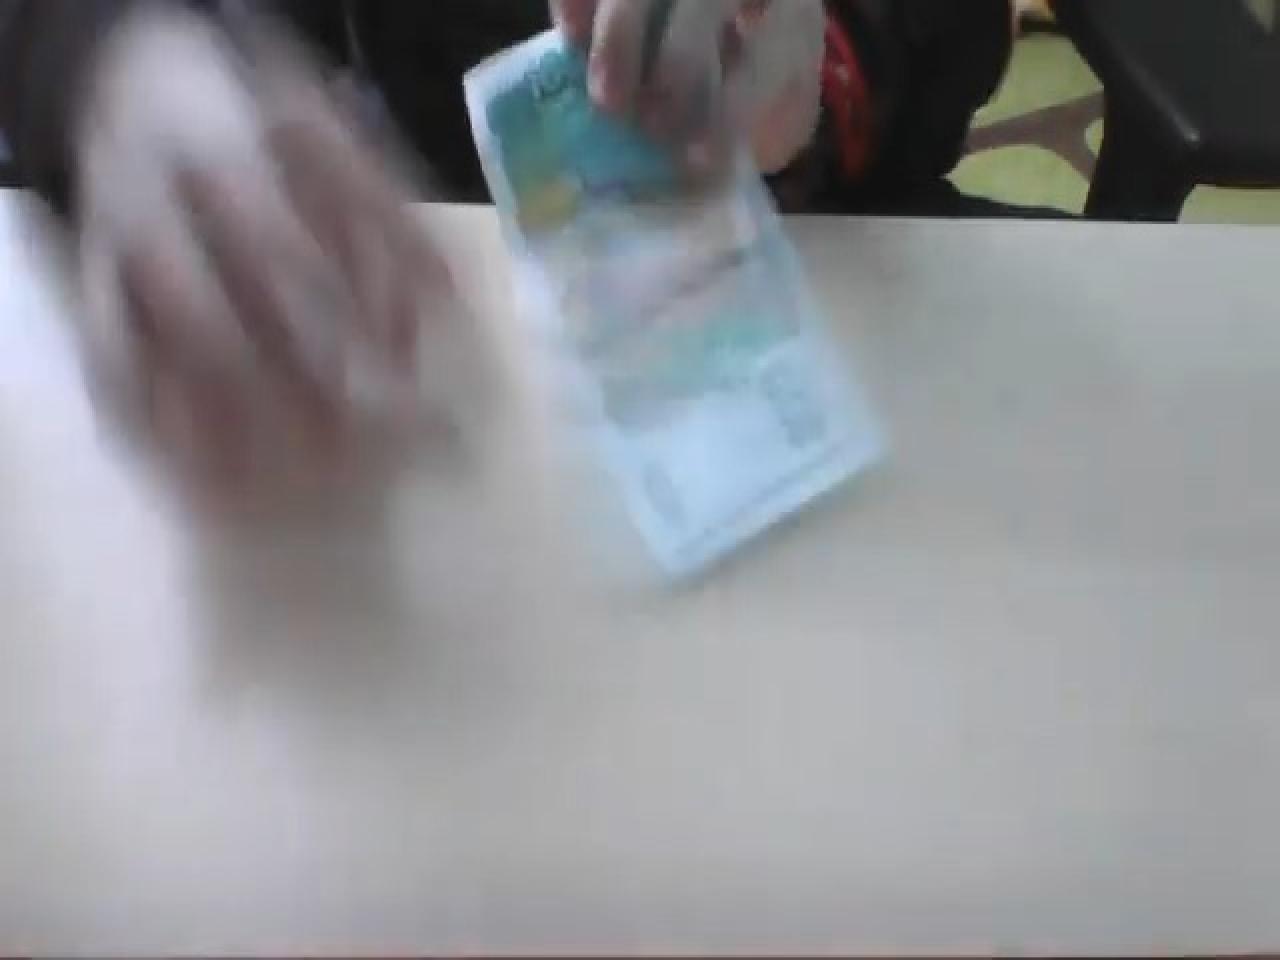100leva: (458, 8, 886, 589)
